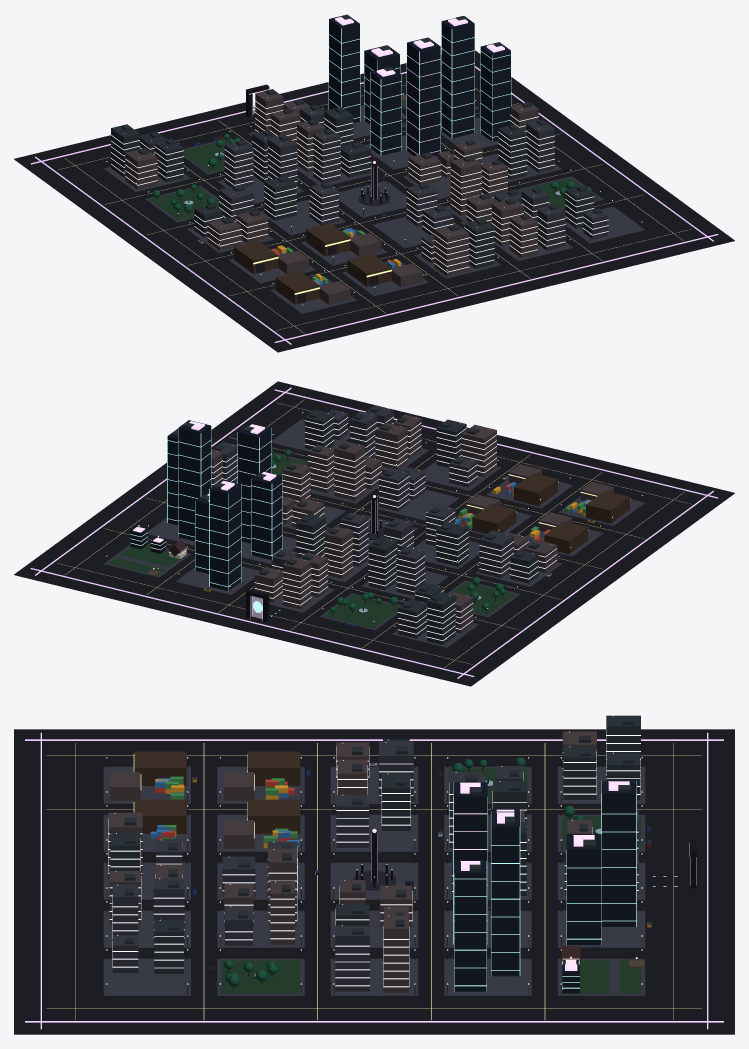
The model's file is nova_aetheris.glb.
3 views of the same model, one above another, from view 1: azimuth 30°, elevation 25°; view 2: azimuth 150°, elevation 25°; view 3: azimuth 270°, elevation 25° (orthographic). The views are drawn at different scales.
Visible parts, largest first — view 1: _MeshInstance3D__001, _MeshInstance3D__596, _MeshInstance3D__452, _MeshInstance3D__413, _MeshInstance3D__607, _MeshInstance3D__443, _MeshInstance3D__388, _MeshInstance3D__499, _MeshInstance3D__315, _MeshInstance3D__646, _MeshInstance3D__331, _MeshInstance3D__636 (+50 smaller); view 2: _MeshInstance3D__001, _MeshInstance3D__413, _MeshInstance3D__596, _MeshInstance3D__443, _MeshInstance3D__452, _MeshInstance3D__499, _MeshInstance3D__179, _MeshInstance3D__080, _MeshInstance3D__388, _MeshInstance3D__019, _MeshInstance3D__265, Lawn_002 (+42 smaller); view 3: _MeshInstance3D__001, _MeshInstance3D__413, _MeshInstance3D__596, _MeshInstance3D__607, _MeshInstance3D__423, _MeshInstance3D__452, _MeshInstance3D__678, _MeshInstance3D__646, Lawn_004, _MeshInstance3D__629, _MeshInstance3D__589, _MeshInstance3D__331 (+62 smaller).
Part boxes in pixels (x1=…): _MeshInstance3D__001: x1=14, y1=50, x2=734, y2=352; _MeshInstance3D__596: x1=441, y1=16, x2=474, y2=138; _MeshInstance3D__452: x1=407, y1=37, x2=440, y2=156; _MeshInstance3D__413: x1=329, y1=14, x2=359, y2=122; _MeshInstance3D__607: x1=480, y1=42, x2=510, y2=141; _MeshInstance3D__443: x1=370, y1=67, x2=401, y2=155; _MeshInstance3D__388: x1=434, y1=224, x2=469, y2=276; _MeshInstance3D__499: x1=450, y1=156, x2=481, y2=215; _MeshInstance3D__315: x1=313, y1=130, x2=340, y2=183; _MeshInstance3D__646: x1=526, y1=119, x2=554, y2=172; _MeshInstance3D__331: x1=339, y1=181, x2=406, y2=217; _MeshInstance3D__636: x1=498, y1=126, x2=526, y2=179; _MeshInstance3D__001: x1=14, y1=381, x2=734, y2=686; _MeshInstance3D__413: x1=210, y1=479, x2=240, y2=590; _MeshInstance3D__596: x1=178, y1=420, x2=211, y2=541; _MeshInstance3D__443: x1=251, y1=471, x2=282, y2=559; _MeshInstance3D__452: x1=238, y1=423, x2=271, y2=543; _MeshInstance3D__499: x1=334, y1=441, x2=365, y2=500; _MeshInstance3D__179: x1=368, y1=536, x2=397, y2=590; _MeshInstance3D__080: x1=479, y1=530, x2=513, y2=577; _MeshInstance3D__388: x1=462, y1=424, x2=496, y2=476; _MeshInstance3D__019: x1=427, y1=591, x2=455, y2=644; _MeshInstance3D__265: x1=283, y1=557, x2=311, y2=609; Lawn_002: x1=324, y1=595, x2=399, y2=628; _MeshInstance3D__001: x1=14, y1=729, x2=734, y2=1034; _MeshInstance3D__413: x1=601, y1=781, x2=636, y2=926; _MeshInstance3D__596: x1=491, y1=811, x2=519, y2=976; _MeshInstance3D__607: x1=454, y1=860, x2=486, y2=991; _MeshInstance3D__423: x1=566, y1=834, x2=601, y2=944; _MeshInstance3D__452: x1=453, y1=782, x2=487, y2=944; _MeshInstance3D__678: x1=103, y1=958, x2=190, y2=995; _MeshInstance3D__646: x1=335, y1=925, x2=369, y2=991; Lawn_004: x1=221, y1=960, x2=300, y2=993; _MeshInstance3D__629: x1=383, y1=915, x2=408, y2=992; _MeshInstance3D__589: x1=444, y1=958, x2=531, y2=995; _MeshInstance3D__331: x1=330, y1=862, x2=418, y2=899.
Size of the model in its own units: 330 by 77.71 by 330.
